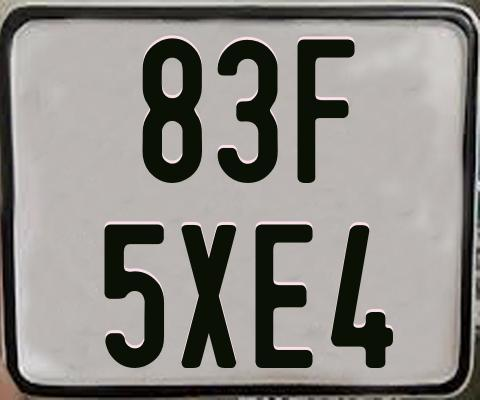3: (215, 37, 276, 180)
4: (329, 223, 397, 369)
5: (104, 223, 168, 368)
8: (139, 36, 201, 182)
E: (253, 221, 311, 368)
F: (296, 38, 356, 187)
X: (179, 222, 236, 370)
